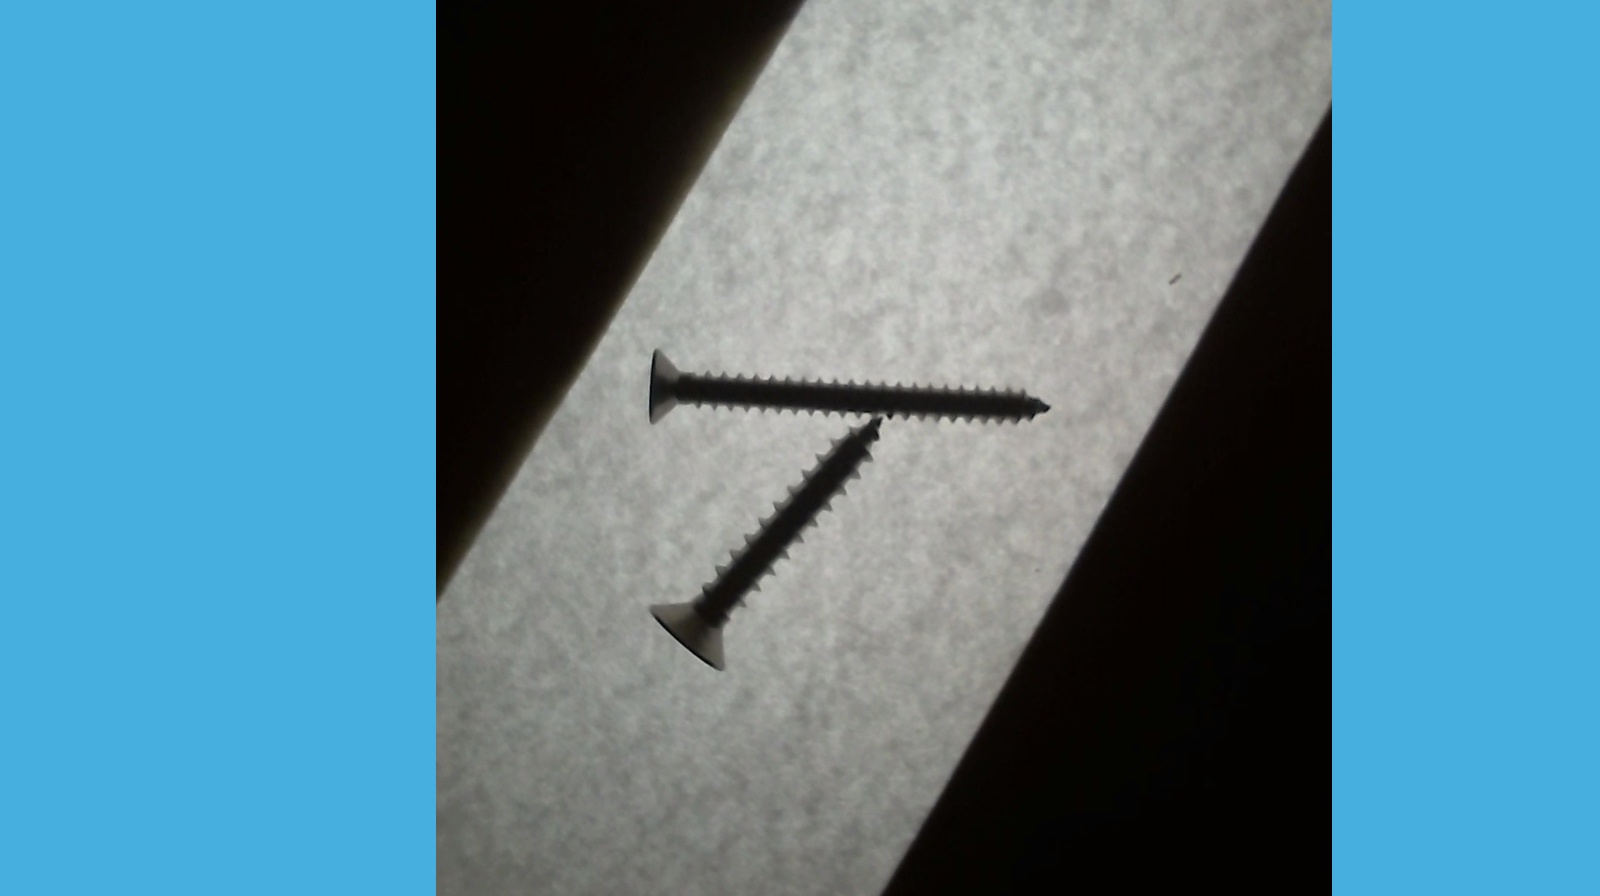S001: (647, 414, 890, 681)
S002: (644, 334, 1056, 425)
